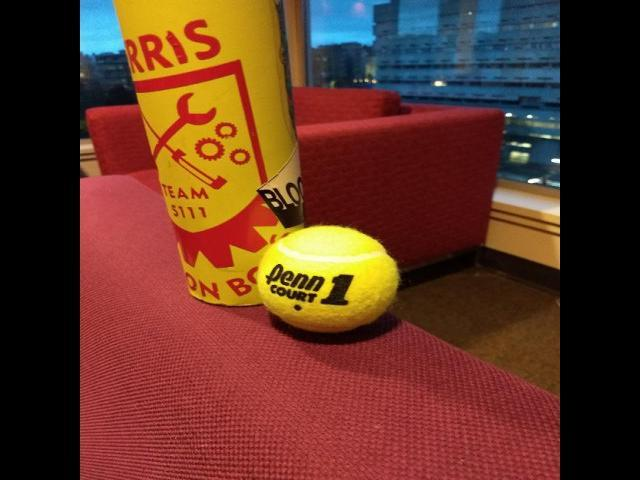tennis-ball: (256, 226, 400, 335)
